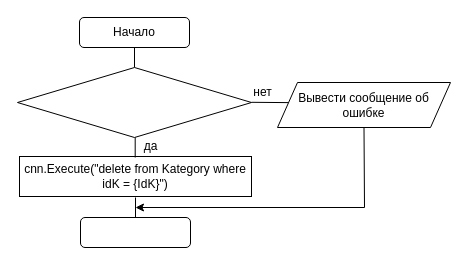
This 468x265 diagram has some shape labels left out. Here are the shapes that lost their labels. From the top down, the box of each, then its label:
(16, 66, 252, 138): cnn = new SQLConnection()
(80, 216, 190, 248): Конец
